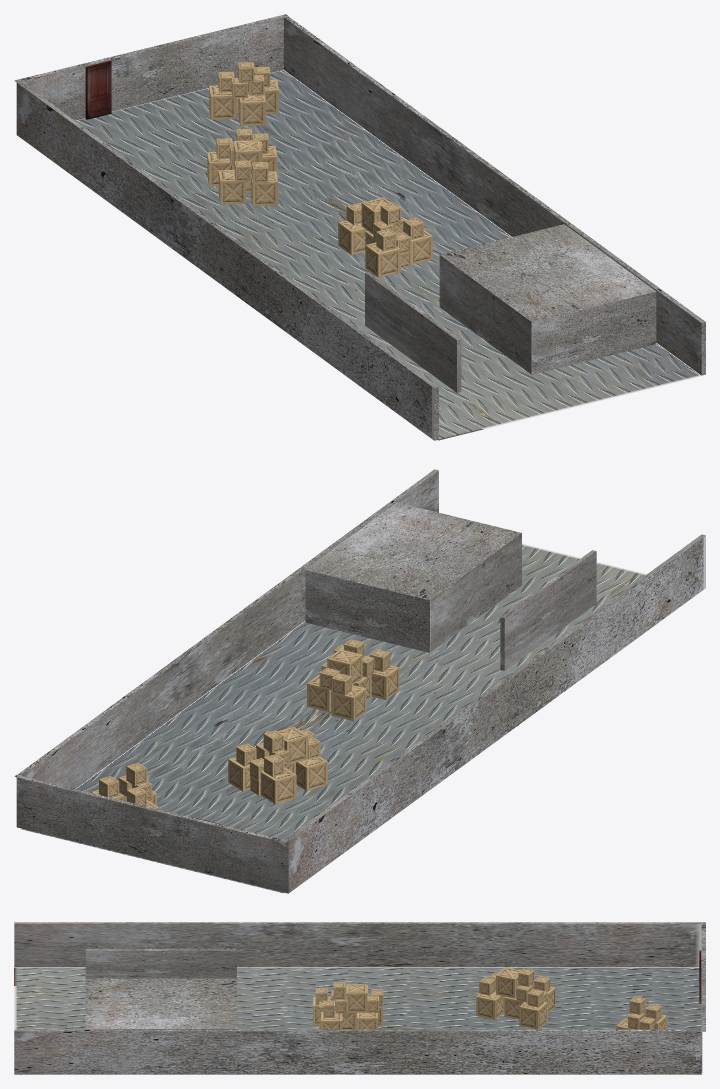
Rendered from level1-2.fbx.
3 renders of one model, top to bottom at view 1: azimuth 30°, elevation 25°; view 2: azimuth 150°, elevation 25°; view 3: azimuth 270°, elevation 25°, orthographic. The views are drawn at different scales.
Visible parts, largest first — view 1: Plane, Cube.002, Cube.001, Cube.003, Cube.034, Cube, Cube.044, Cube.008, Cube.031, Cube.043, Cube.041, Cube.004 (+1 smaller); view 2: Plane, Cube.002, Cube.001, Cube.003, Cube.034, Cube, Cube.028, Cube.004, Cube.031, Cube.007, Cube.008, Cube.030 (+1 smaller); view 3: Cube.003, Cube.002, Plane, Cube.001, Cube, Cube.033, Cube.029, Cube.007, Cube.030, Cube.034, Cube.006, Cube.032 (+6 smaller).
Boxes of the visible parts, x1=… form: Plane: x1=75, y1=70, x2=701, y2=440; Cube.002: x1=16, y1=81, x2=438, y2=440; Cube.001: x1=439, y1=224, x2=656, y2=374; Cube.003: x1=284, y1=16, x2=705, y2=375; Cube.034: x1=14, y1=14, x2=288, y2=120; Cube: x1=365, y1=272, x2=461, y2=392; Cube.044: x1=85, y1=60, x2=111, y2=119; Cube.008: x1=365, y1=242, x2=400, y2=277; Cube.031: x1=218, y1=170, x2=246, y2=204; Cube.043: x1=238, y1=92, x2=265, y2=125; Cube.041: x1=209, y1=85, x2=236, y2=119; Cube.004: x1=338, y1=220, x2=367, y2=254; Plane: x1=20, y1=543, x2=646, y2=893; Cube.002: x1=284, y1=534, x2=705, y2=892; Cube.001: x1=305, y1=502, x2=521, y2=652; Cube.003: x1=17, y1=469, x2=438, y2=788; Cube.034: x1=14, y1=775, x2=288, y2=893; Cube: x1=500, y1=550, x2=596, y2=670; Cube.028: x1=261, y1=767, x2=296, y2=804; Cube.004: x1=331, y1=685, x2=366, y2=720; Cube.031: x1=296, y1=756, x2=327, y2=790; Cube.007: x1=327, y1=649, x2=362, y2=685; Cube.008: x1=371, y1=665, x2=399, y2=699; Cube.030: x1=278, y1=727, x2=308, y2=764; Cube.003: x1=14, y1=1029, x2=701, y2=1074; Cube.002: x1=14, y1=922, x2=701, y2=967; Plane: x1=14, y1=967, x2=702, y2=1073; Cube.001: x1=85, y1=978, x2=237, y2=1029; Cube: x1=85, y1=948, x2=236, y2=978; Cube.033: x1=476, y1=991, x2=504, y2=1019; Cube.029: x1=519, y1=1002, x2=547, y2=1029; Cube.007: x1=346, y1=984, x2=367, y2=1012; Cube.030: x1=496, y1=967, x2=520, y2=998; Cube.034: x1=701, y1=922, x2=705, y2=1031; Cube.006: x1=357, y1=1012, x2=377, y2=1029; Cube.032: x1=504, y1=996, x2=523, y2=1019.
Size of the model in its own units: 27180 by 5076 by 72734.
